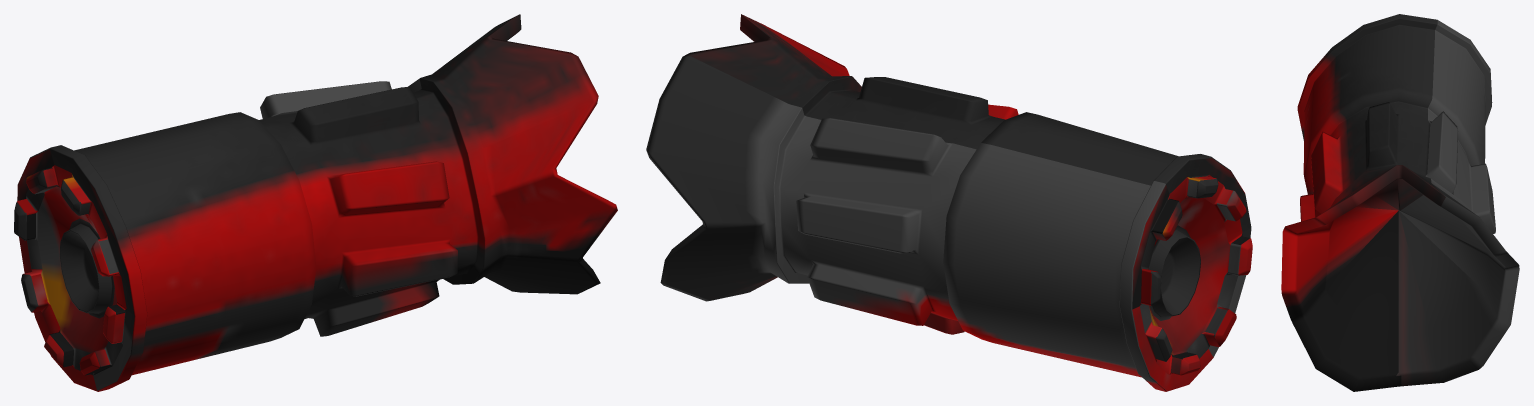
The model's file is SM_12Gauge_Casing.fbx.
3 views of the same model, side by side, from view 1: azimuth 30°, elevation 25°; view 2: azimuth 150°, elevation 25°; view 3: azimuth 270°, elevation 25° (orthographic). The views are drawn at different scales.
Parts seen in each view (by area): view 1: Furiosa_Shell; view 2: Furiosa_Shell; view 3: Furiosa_Shell.
Part boxes in pixels (<box>): Furiosa_Shell: <box>14,14,617,391</box>; Furiosa_Shell: <box>646,14,1252,391</box>; Furiosa_Shell: <box>1281,14,1519,391</box>.
Bounding box in the file's own units: 4.84 × 2.5 × 2.44.
